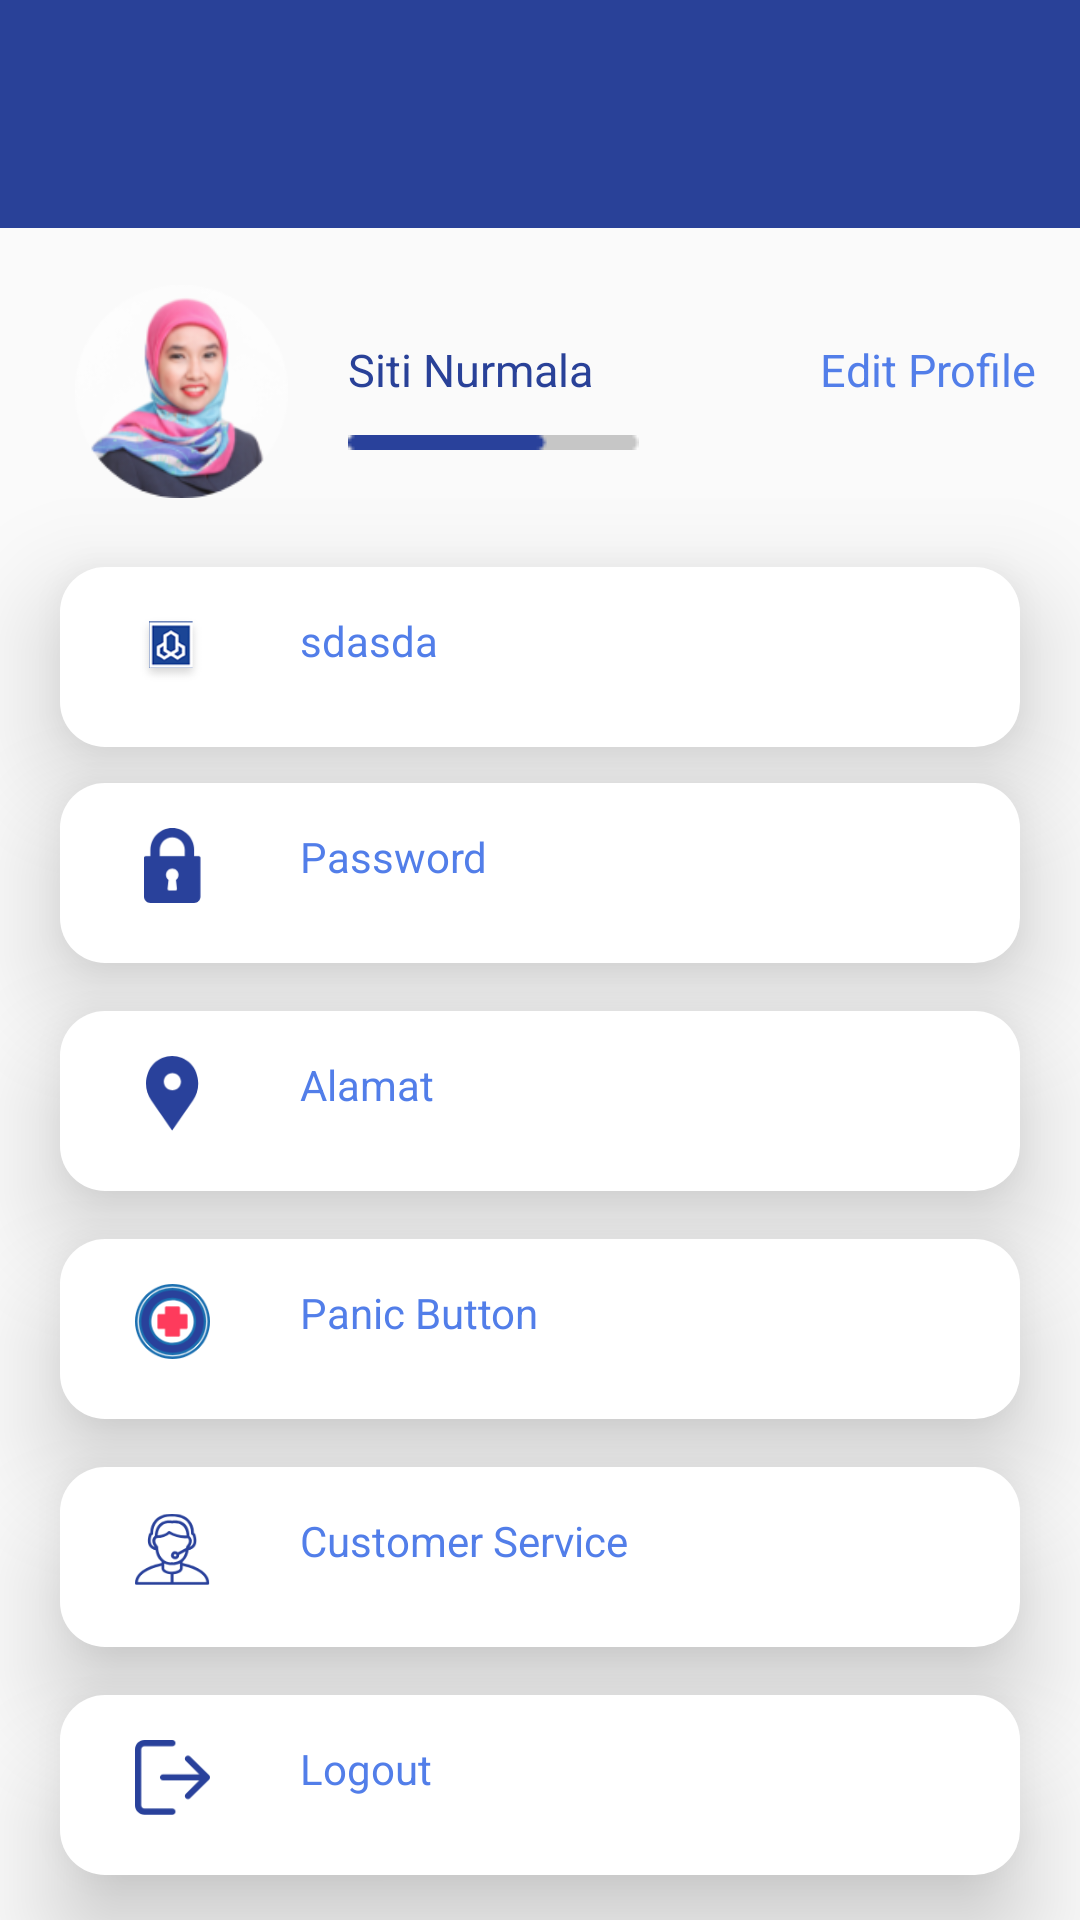

Icon bounding boxes for this 1080px x 1920px phone screenshot, format [x1=x1, y1=y1, x2=x2, y2=y2]:
foto: [x1=91, y1=298, x2=263, y2=498]
support: [x1=135, y1=1514, x2=209, y2=1585]
